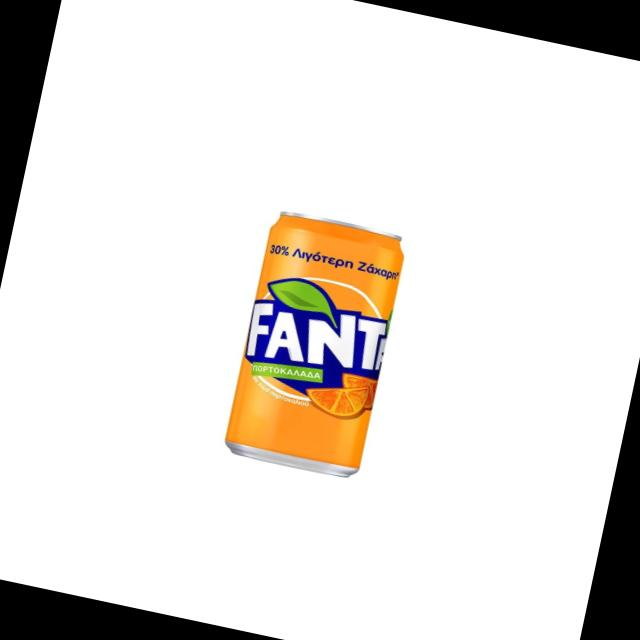fanta: (208, 206, 421, 487)
